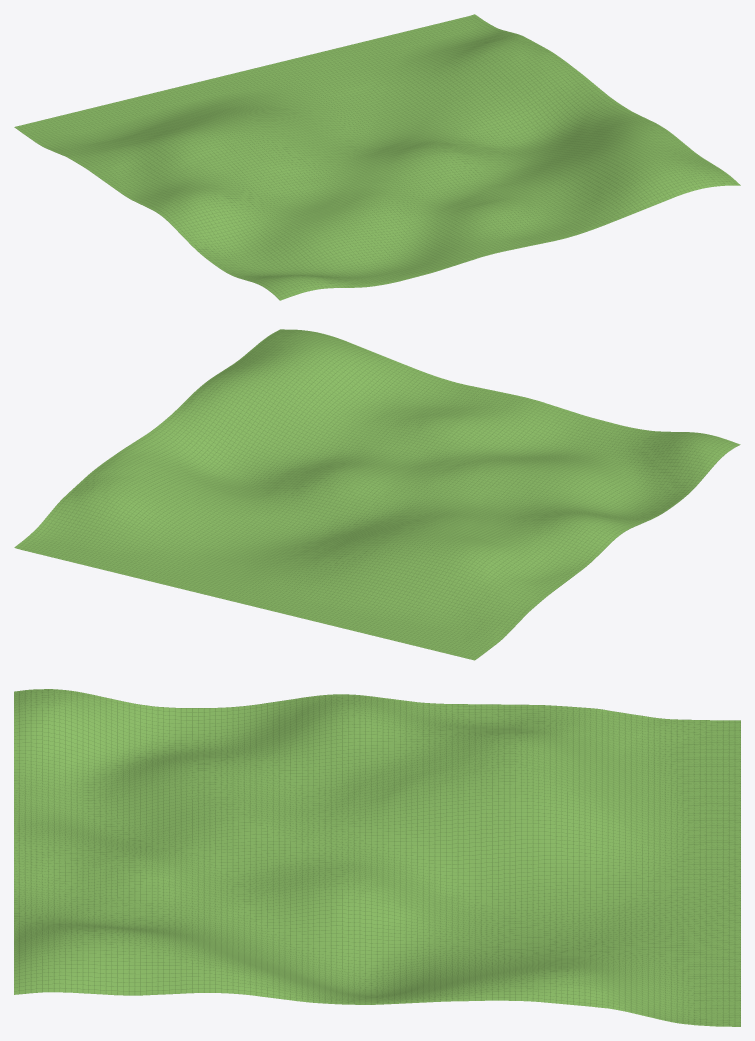
File: Landscape1.gltf
3 views of the same model, one above another, from view 1: azimuth 30°, elevation 25°; view 2: azimuth 150°, elevation 25°; view 3: azimuth 270°, elevation 25° (orthographic). The views are drawn at different scales.
Visible parts, largest first — view 1: LandscapeComponent_1, LandscapeComponent_2, LandscapeComponent_3, LandscapeComponent_0; view 2: LandscapeComponent_3, LandscapeComponent_0, LandscapeComponent_1, LandscapeComponent_2; view 3: LandscapeComponent_0, LandscapeComponent_2, LandscapeComponent_3, LandscapeComponent_1.
Part boxes in pixels (x1,y1,x2,y2): LandscapeComponent_1: [245, 14, 607, 161]; LandscapeComponent_2: [147, 162, 510, 300]; LandscapeComponent_3: [378, 95, 740, 249]; LandscapeComponent_0: [14, 71, 376, 207]; LandscapeComponent_3: [147, 329, 509, 500]; LandscapeComponent_0: [245, 500, 607, 660]; LandscapeComponent_1: [14, 434, 376, 604]; LandscapeComponent_2: [377, 394, 740, 545]; LandscapeComponent_0: [377, 697, 740, 875]; LandscapeComponent_2: [14, 689, 377, 865]; LandscapeComponent_3: [14, 853, 377, 1004]; LandscapeComponent_1: [377, 865, 740, 1026].
Bounding box in the file's own units: 20.16 × 1.97 × 20.16.
1 material, 1 textured.
